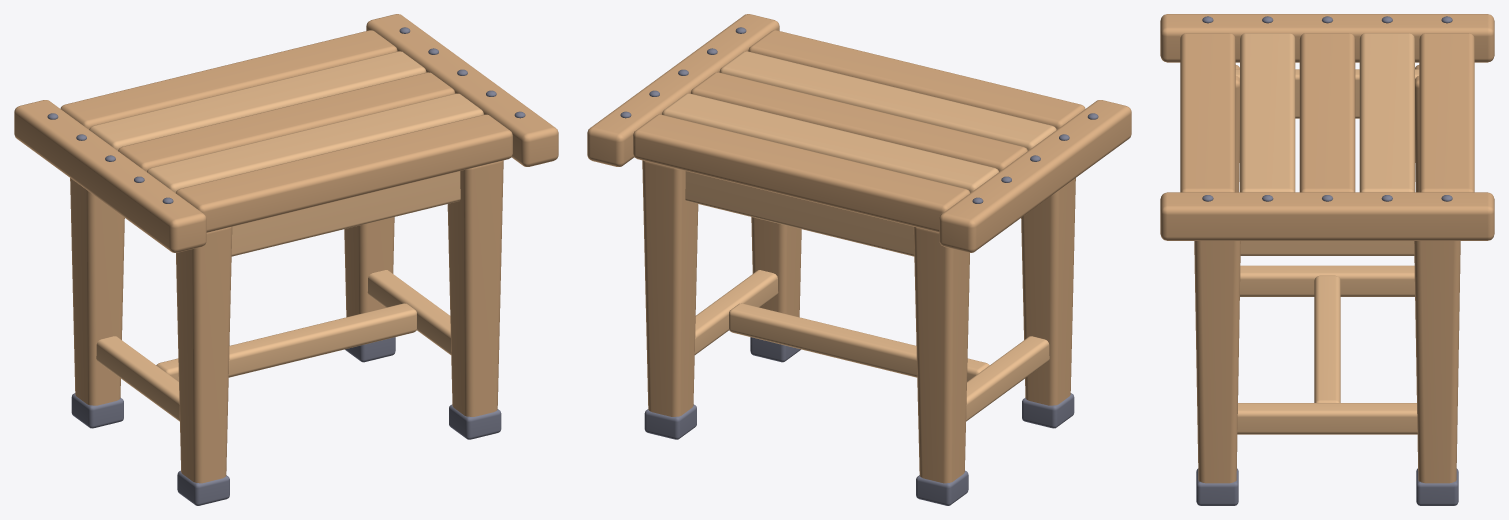
Rendered from table3.glb.
3 views of the same model, side by side, from view 1: azimuth 30°, elevation 25°; view 2: azimuth 150°, elevation 25°; view 3: azimuth 270°, elevation 25° (orthographic). The views are drawn at different scales.
Parts seen in each view (by area): view 1: plank0, leg1-1, leg-1-1, cleat-1, leg-11, plank3, plank4, plank2, plank1, cleat1, apron_l-1, stretch_mid (+7 smaller); view 2: plank4, leg11, leg-11, cleat-1, leg-1-1, plank1, plank0, plank2, plank3, cleat1, apron_l1, stretch_mid (+7 smaller); view 3: cleat1, leg1-1, leg11, plank2, plank1, plank3, plank0, plank4, cleat-1, stretch_s1, stretch_s-1, stretch_mid (+6 smaller).
Part boxes in pixels (box(x1,y1,x2,y2)): plank0: box(176, 114, 512, 232); leg1-1: box(447, 160, 503, 416); leg-1-1: box(176, 227, 232, 483); cleat-1: box(14, 100, 206, 252); leg-11: box(70, 178, 124, 405); plank3: box(89, 51, 426, 150); plank4: box(60, 30, 397, 129); plank2: box(118, 72, 455, 171); plank1: box(147, 93, 483, 192); cleat1: box(366, 14, 558, 166); apron_l-1: box(231, 171, 460, 256); stretch_mid: box(156, 303, 416, 381); plank4: box(633, 114, 969, 232); leg11: box(642, 160, 698, 416); leg-11: box(913, 227, 969, 483); cleat-1: box(939, 100, 1131, 252); leg-1-1: box(1021, 178, 1075, 405); plank1: box(719, 51, 1056, 150); plank0: box(748, 30, 1085, 129); plank2: box(690, 72, 1027, 171); plank3: box(662, 93, 998, 192); cleat1: box(587, 14, 779, 166); apron_l1: box(685, 171, 914, 256); stretch_mid: box(729, 303, 989, 381); cleat1: box(1160, 192, 1494, 240); leg1-1: box(1194, 241, 1240, 483); leg11: box(1414, 241, 1460, 483); plank2: box(1299, 33, 1355, 192); plank1: box(1240, 33, 1295, 192); plank3: box(1359, 33, 1414, 192); plank0: box(1180, 33, 1235, 192); plank4: box(1419, 33, 1474, 192); cleat-1: box(1160, 14, 1494, 62); stretch_s1: box(1237, 403, 1417, 434); stretch_s-1: box(1240, 265, 1414, 296); stretch_mid: box(1314, 275, 1340, 402).
Size of the model in its own units: 1.06 by 0.8112 by 0.76.
